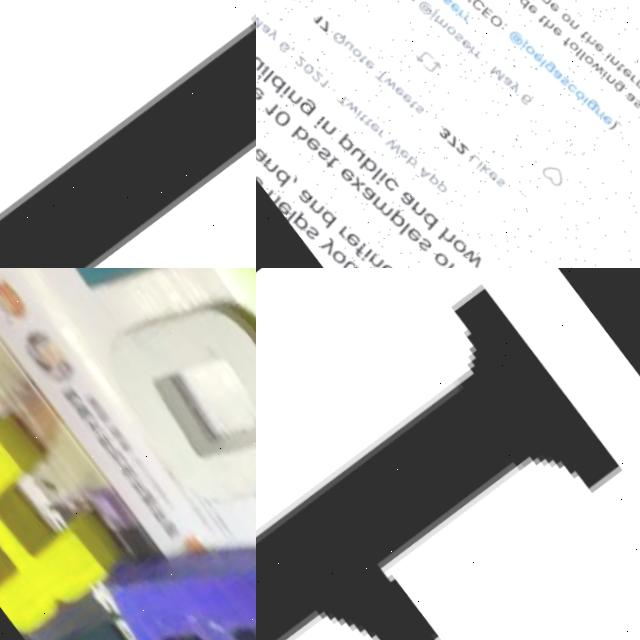0: (272, 105, 298, 131), (302, 59, 320, 76)
1: (263, 97, 284, 117), (313, 9, 328, 25), (319, 74, 333, 88)
2: (455, 136, 474, 155), (293, 51, 311, 70), (311, 66, 328, 84)
3: (438, 120, 456, 139)
6: (278, 36, 296, 55), (520, 86, 538, 105)
7: (318, 15, 337, 34), (448, 129, 466, 148)
B: (80, 486, 256, 640)
D: (30, 600, 211, 640)
L: (0, 0, 256, 268)
P: (256, 279, 624, 640)
Q: (90, 268, 256, 560)
R: (0, 391, 137, 640)
